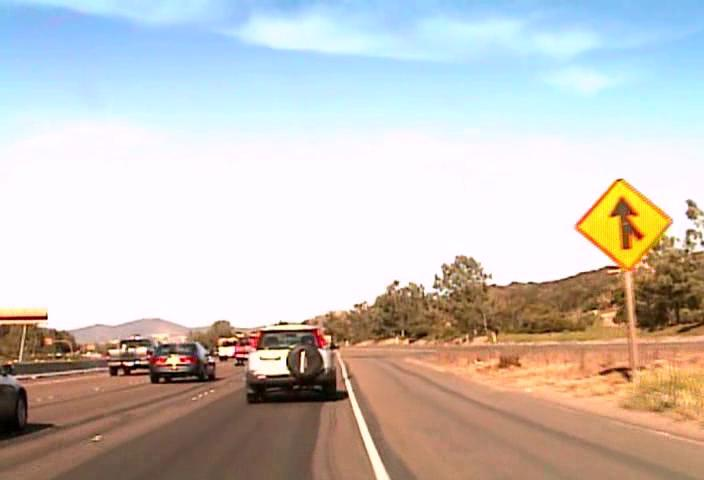merge: (574, 177, 672, 269)
